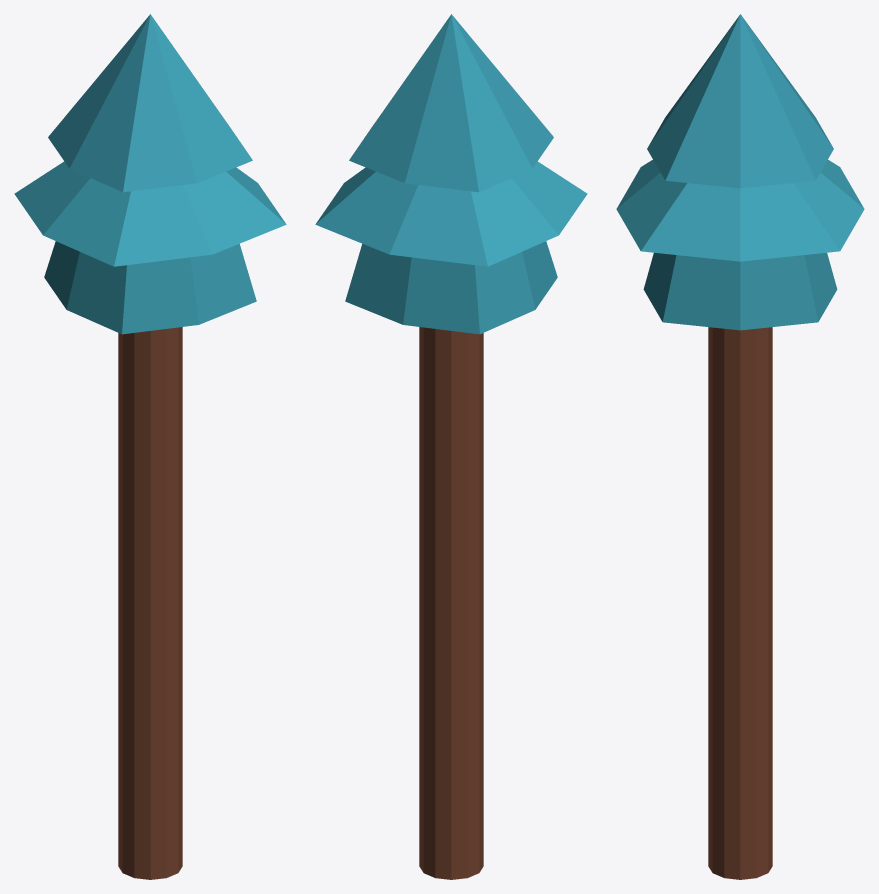
The model's file is Tree_20_summer_blue_vc.fbx.
3 renders of one model, left to right at view 1: azimuth 30°, elevation 25°; view 2: azimuth 150°, elevation 25°; view 3: azimuth 270°, elevation 25°, orthographic.
Visible parts, largest first — view 1: Tree_20_summer_blue_vc; view 2: Tree_20_summer_blue_vc; view 3: Tree_20_summer_blue_vc.
Boxes of the visible parts, <box> form: Tree_20_summer_blue_vc: <box>14,14,286,879</box>; Tree_20_summer_blue_vc: <box>315,14,587,879</box>; Tree_20_summer_blue_vc: <box>616,14,864,879</box>.
Bounding box in the file's own units: 85.54 × 324 × 85.54.
